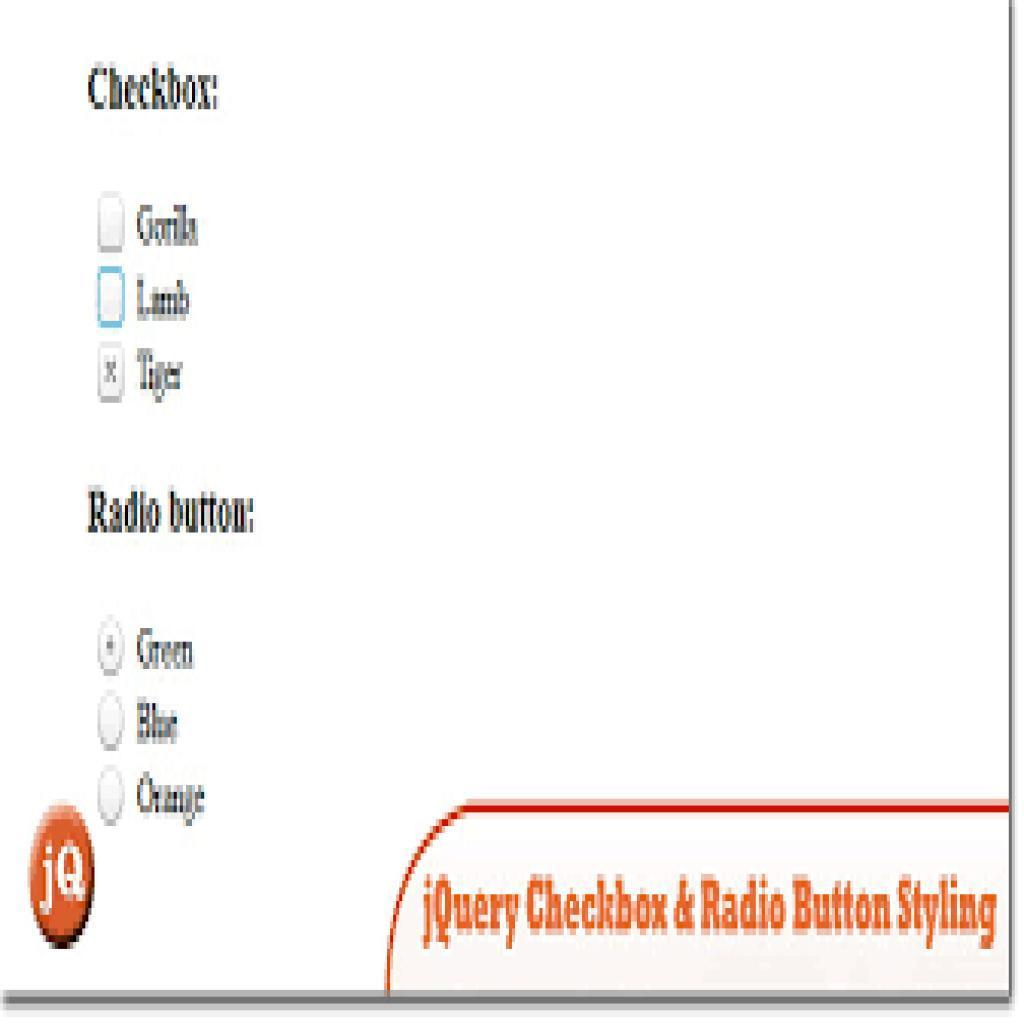checkbox: (96, 194, 127, 255), (96, 268, 127, 328), (98, 346, 128, 402)
label: (137, 772, 209, 829), (134, 201, 202, 252), (134, 272, 197, 327), (132, 347, 188, 407), (138, 622, 198, 676), (134, 698, 183, 751)
radio: (93, 761, 134, 834), (94, 609, 128, 681), (93, 691, 131, 755)
